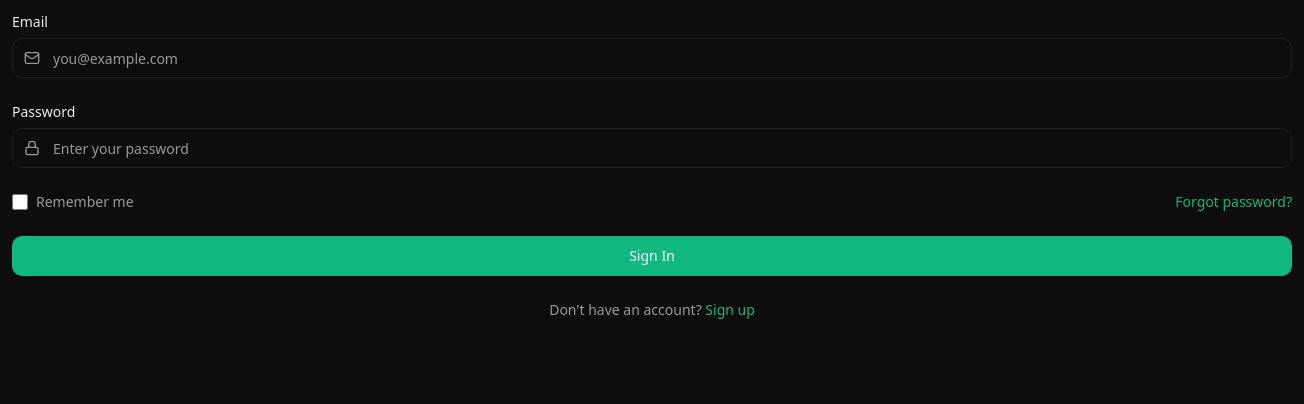
it: LoginForm › error handling › displays error from failed submission
Type "user@example.com" into the field labelled "Email". click: (652, 58)
box: [12, 38, 1292, 78]
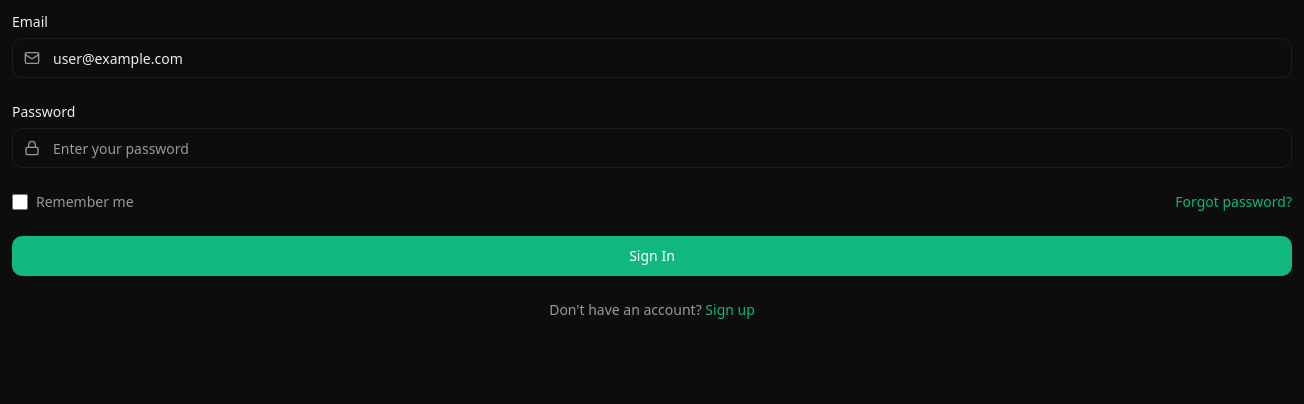
Type "password123" into the password field labelled "Password". click: (652, 148)
box: [12, 128, 1292, 168]
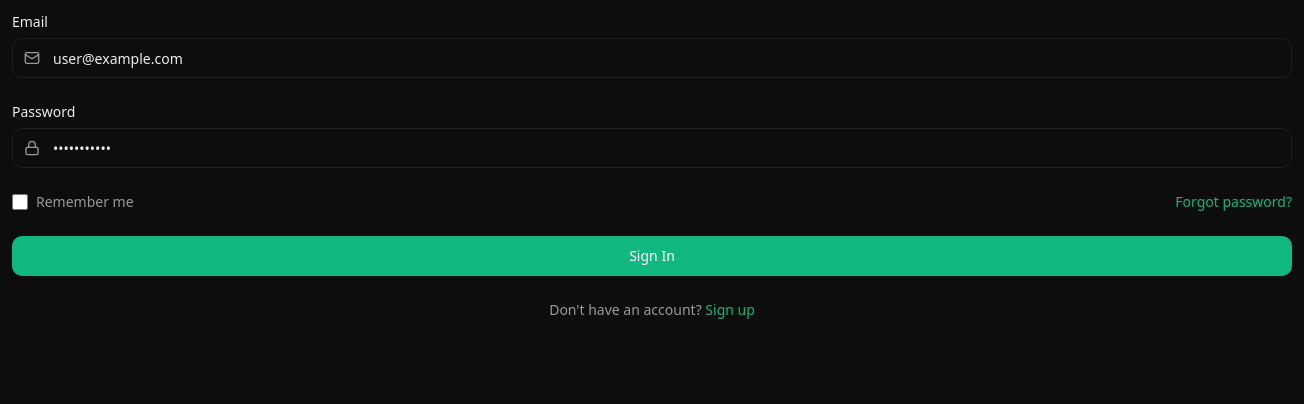
Click the button "Sign In". click: (652, 256)
box: [12, 236, 1292, 276]
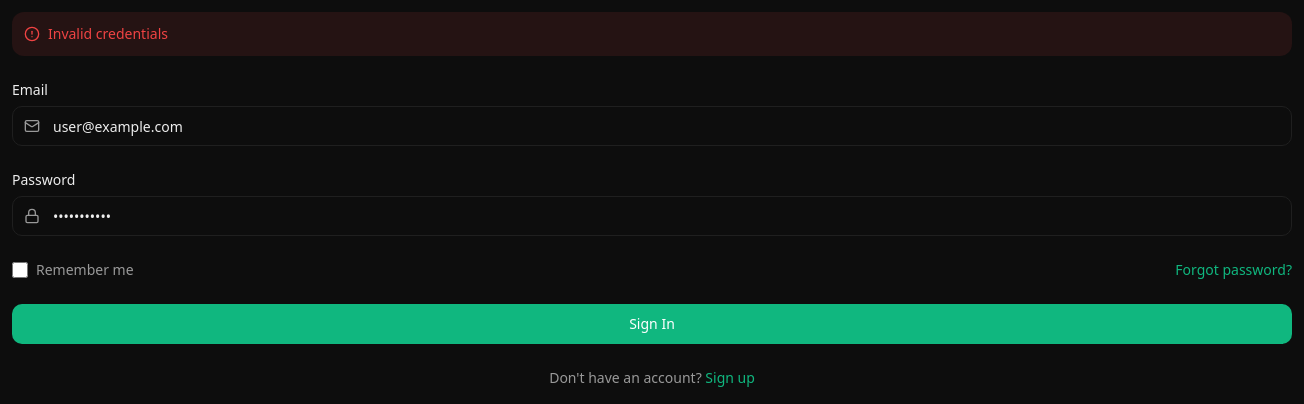
Now the text "Invalid credentials" is shown, box [12, 12, 1292, 56]
